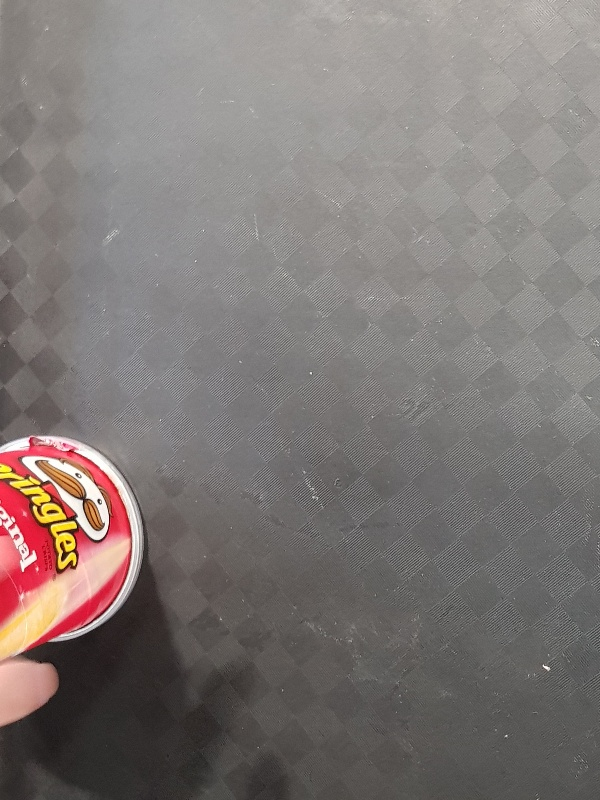Pringles Original: (1, 435, 144, 660)
